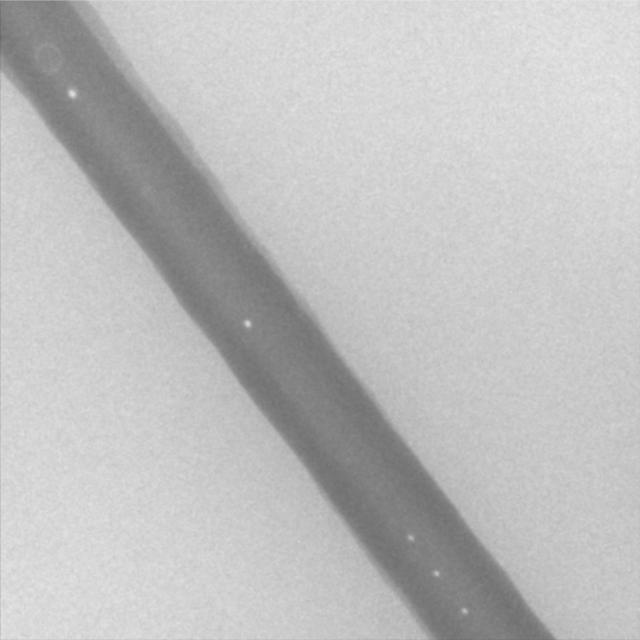air hole: (66, 86, 78, 99), (241, 318, 252, 329), (431, 567, 441, 579), (459, 605, 468, 617), (406, 532, 415, 544)
hollow bead: (31, 41, 63, 76)
